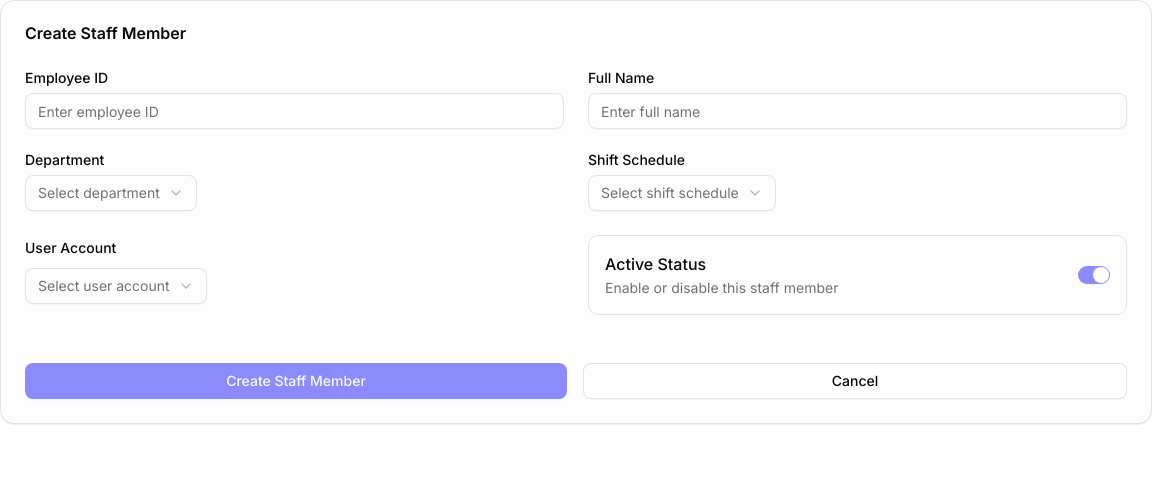
Test: StaffForm › Create Mode › should show validation errors for empty required fields
The width and height of the screenshot is (1152, 504).
Try to submit empty form
Click the button "Create Staff Member": [296, 381] box [25, 363, 567, 399]
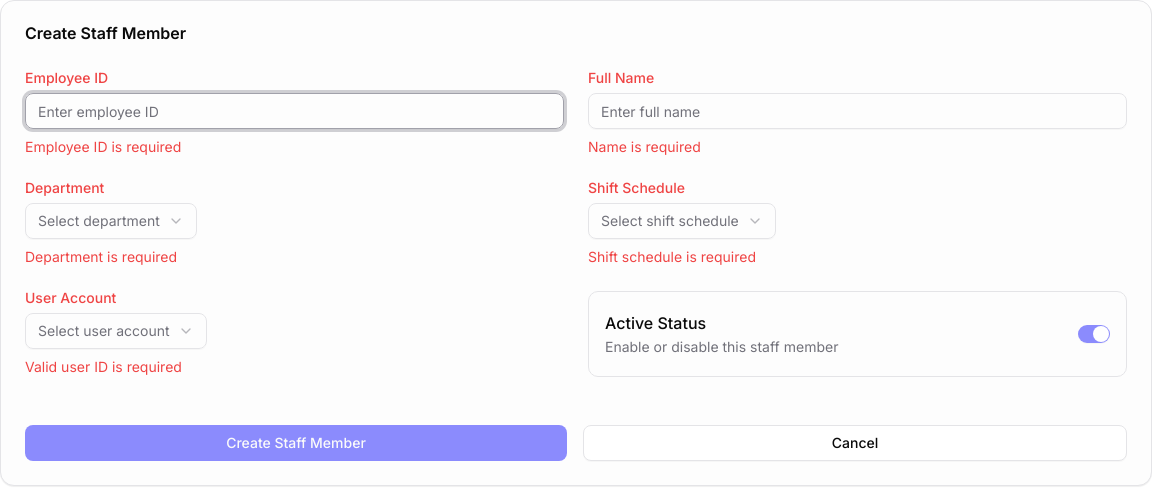
Expected: the text "Employee ID is required" is shown, [25, 138, 181, 155]
Expected: the text "Name is required" is shown, [588, 138, 701, 155]
Expected: the text "Department is required" is shown, [25, 248, 177, 265]
